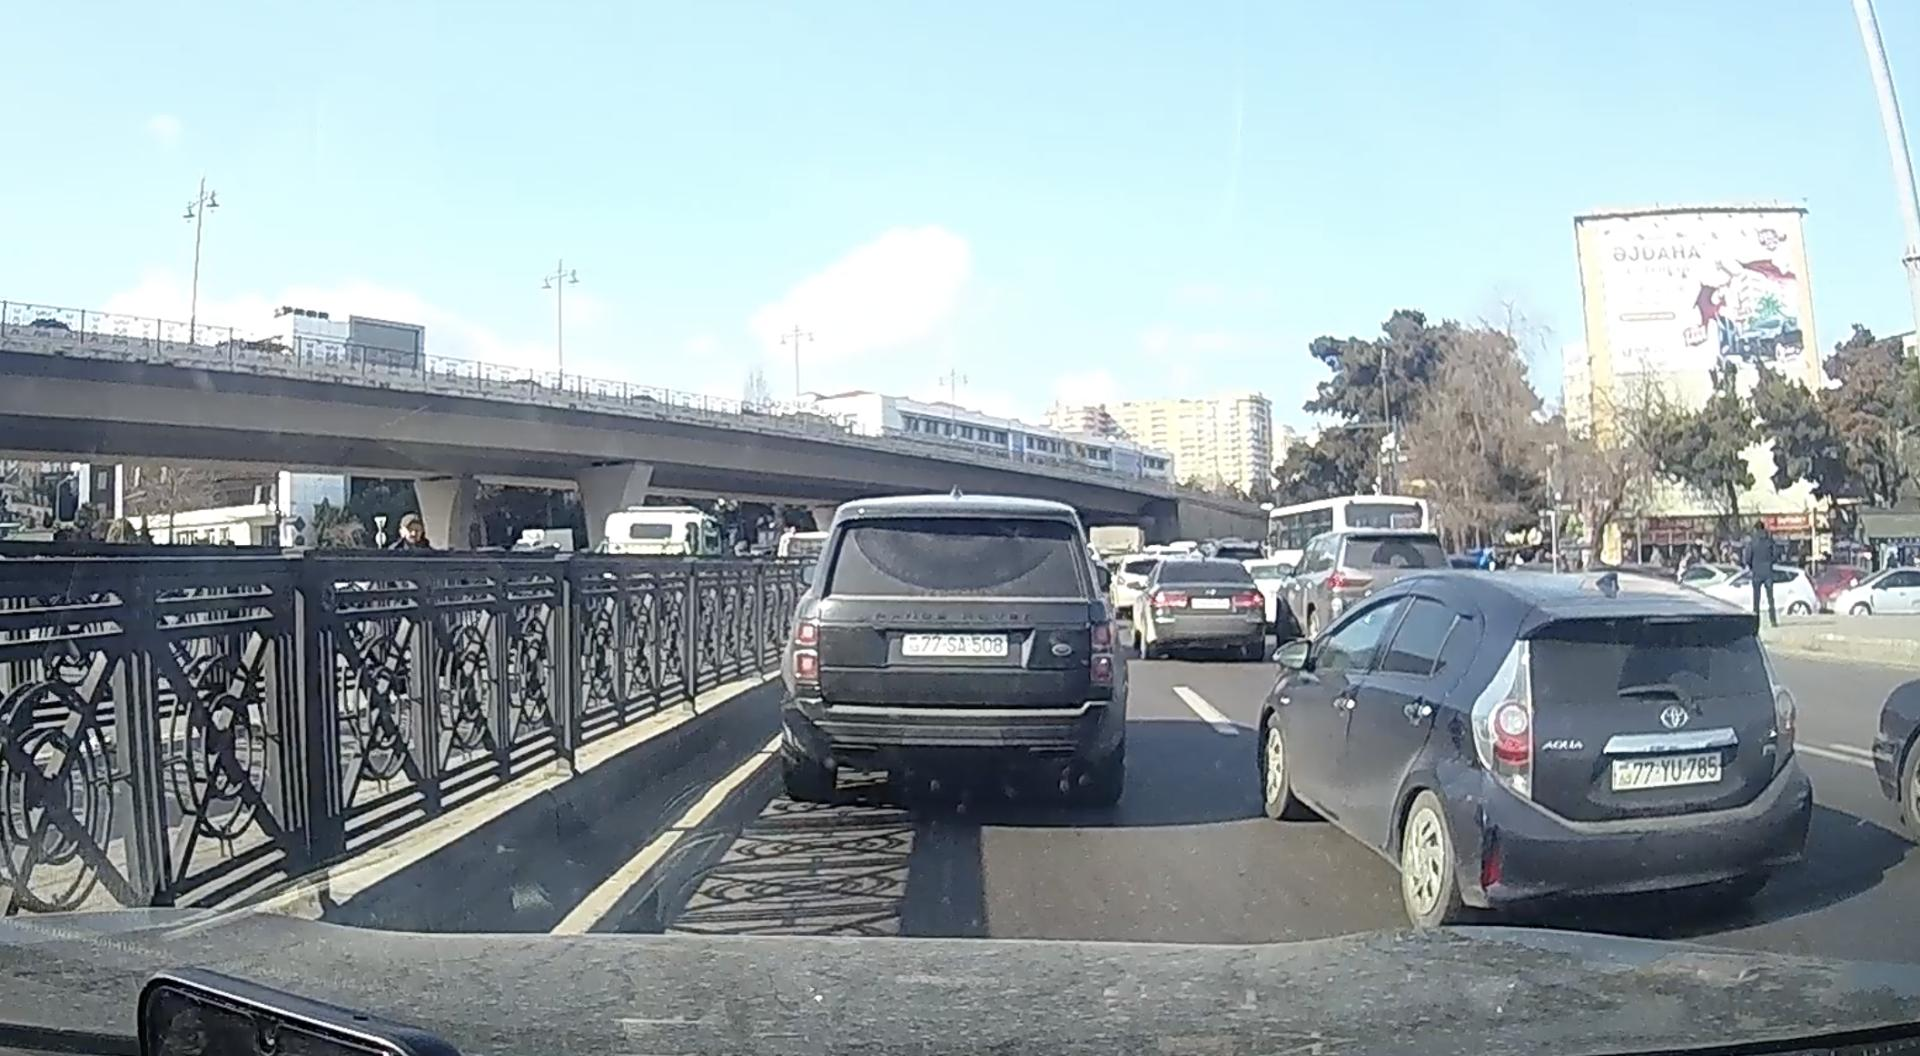banner: (1604, 208, 1820, 382)
